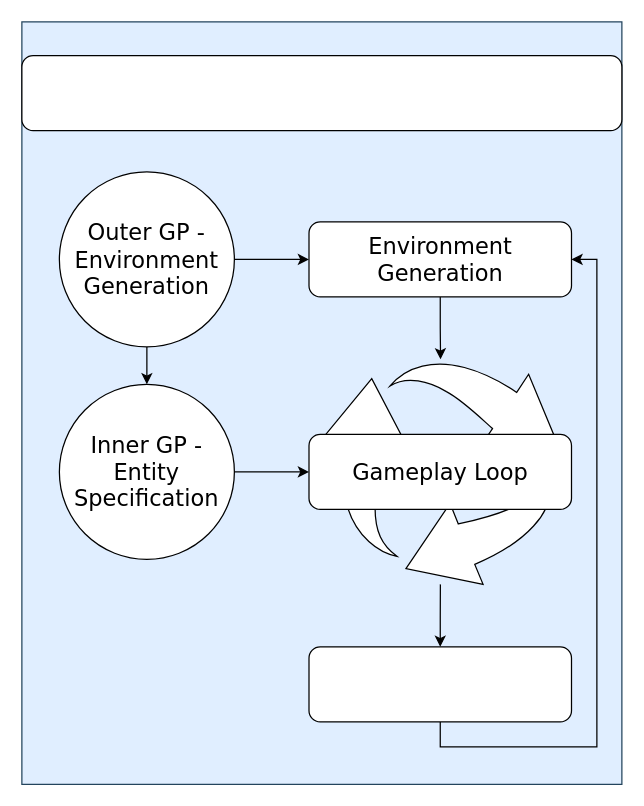
Some shapes in this 644 by 806 pixel diagram are drawn without their labels. The centre of each missing label's shape, as x and y in pixels:
"Game Engine" belongs at point 321,92.
"Level Complete" belongs at point 440,684.
